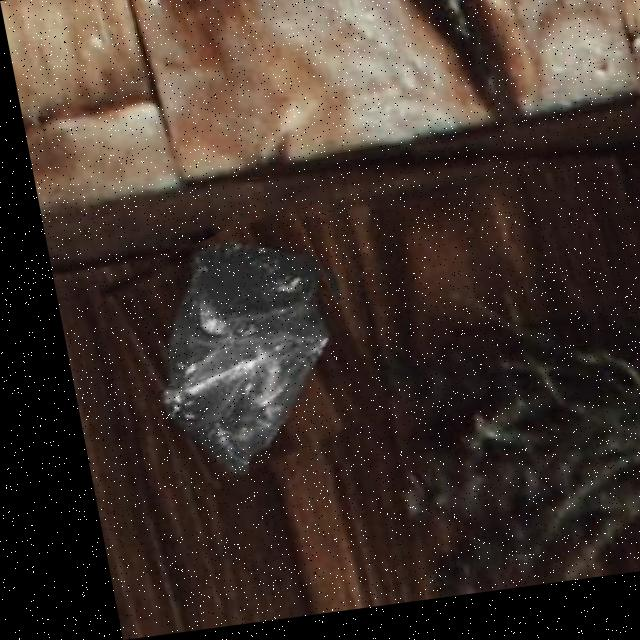plasticcover: (92, 218, 369, 492)
